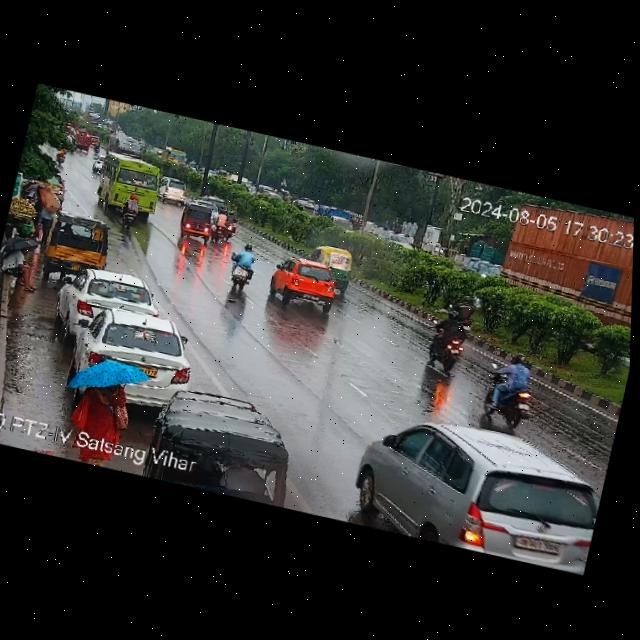bus: (90, 149, 171, 224), (165, 147, 190, 165)
car: (341, 402, 611, 576), (38, 267, 210, 411), (51, 260, 166, 355), (38, 208, 118, 291), (267, 251, 345, 313), (174, 202, 216, 245), (156, 175, 193, 209)
motorcycle: (481, 349, 542, 429), (422, 305, 470, 374), (228, 244, 261, 299), (214, 207, 248, 241), (117, 189, 140, 230)
person: (60, 373, 141, 469), (0, 233, 53, 299), (22, 187, 54, 240)
truck: (478, 189, 635, 336)
